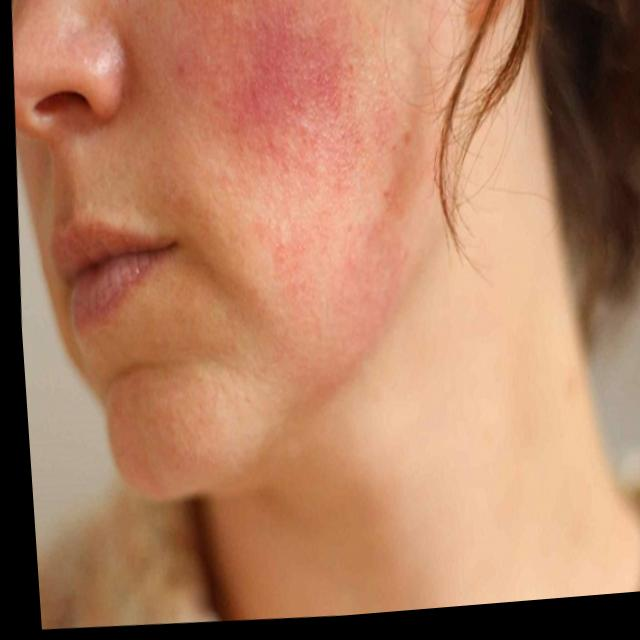skinredness: (210, 0, 382, 184)
